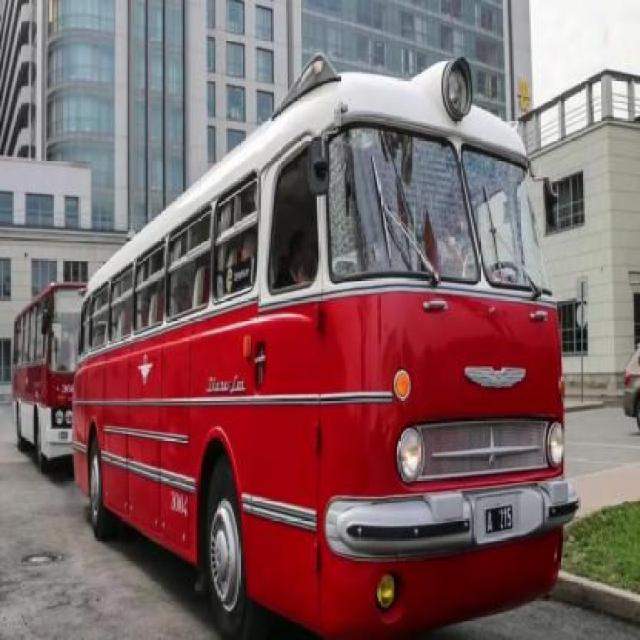bus: (77, 55, 565, 640), (10, 284, 87, 470)
